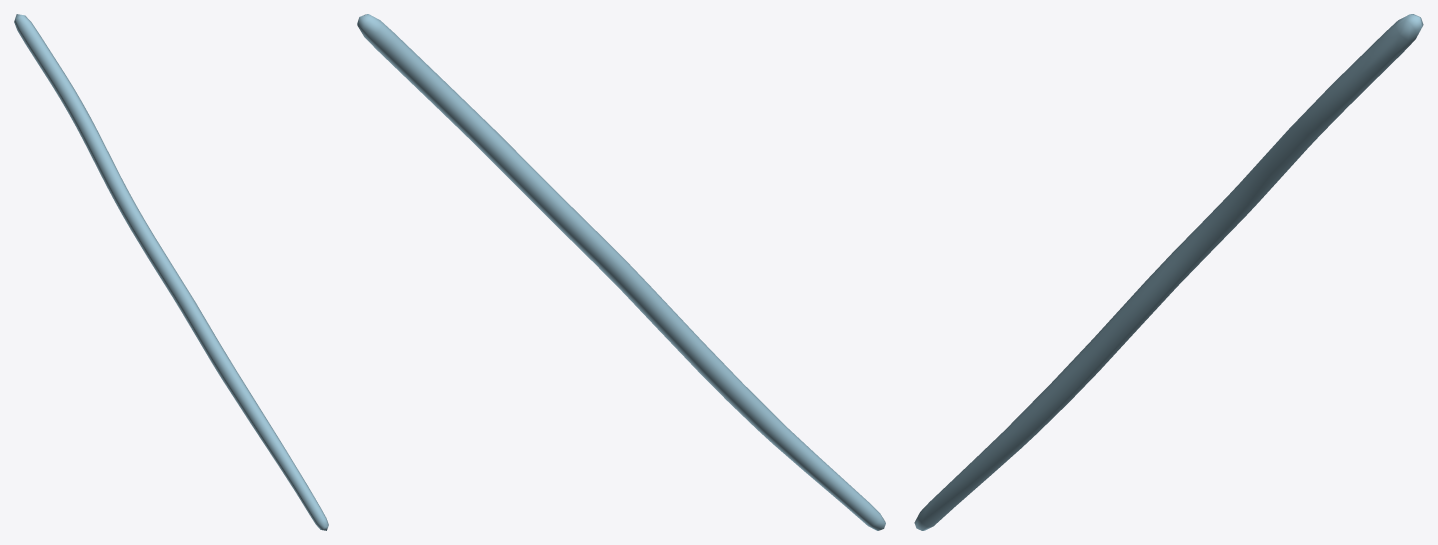
File: articulacoes-stylohyoid-ligament-l.glb
3 views of the same model, side by side, from view 1: azimuth 90°, elevation 25°; view 2: azimuth 150°, elevation 25°; view 3: azimuth 270°, elevation 25° (orthographic). The views are drawn at different scales.
Visible parts, largest first — view 1: Stylohyoid ligament.l; view 2: Stylohyoid ligament.l; view 3: Stylohyoid ligament.l.
Part boxes in pixels (x1,y1,x2,y2): Stylohyoid ligament.l: [14, 14, 328, 530]; Stylohyoid ligament.l: [357, 14, 885, 530]; Stylohyoid ligament.l: [914, 14, 1423, 530].
Bounding box in the file's own units: 0.0249 × 0.047 × 0.0321.
